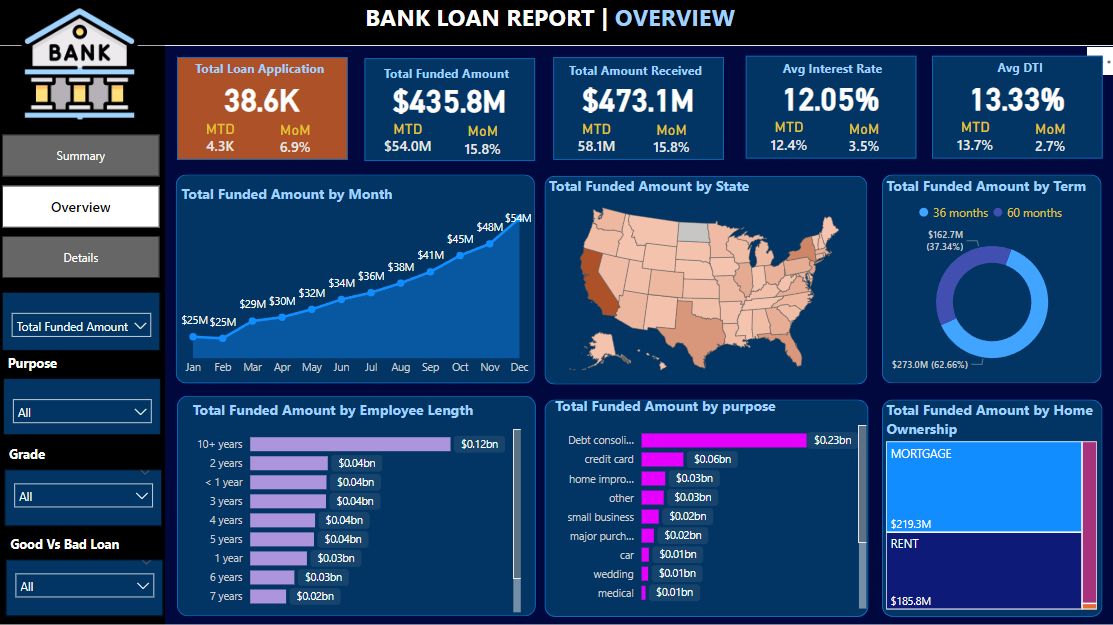

Layout of this report page (visuals, bound fields, positions):
{"tool":"powerbi","page":{"name":"Overview","canvas":[1280,720],"ordinal":1},"visuals":[{"type":"shape","box":[0,0,1280,55.3],"z":0},{"type":"shape","box":[1068.8,67,195,117.5],"z":0,"group":"g5"},{"type":"shape","box":[856.2,68.1,195,117.5],"z":0,"group":"g4"},{"type":"shape","box":[206,69.5,195,117.5],"z":0,"group":"g1"},{"type":"shape","box":[420,69.5,195,117.5],"z":0,"group":"g2"},{"type":"shape","box":[635,69.5,195,117.5],"z":0,"group":"g3"},{"type":"shape","box":[0,55.5,192,664.5],"z":1000},{"type":"card","fields":{"Values":["financial_loan.Avg DTI"]},"box":[1084.5,72,162.5,81.2],"z":1000,"group":"g5"},{"type":"card","fields":{"Values":["financial_loan.Avg Interest Rate"]},"box":[871.9,73.1,162.5,81.2],"z":1000,"group":"g4"},{"type":"card","fields":{"Values":["financial_loan.Total Loan Applications"]},"box":[221.7,74.5,162.5,81.2],"z":1000,"group":"g1"},{"type":"card","fields":{"Values":["financial_loan.Total Funded Amount"]},"box":[435.7,74.5,162.5,81.2],"z":1000,"group":"g2"},{"type":"card","fields":{"Values":["financial_loan.Total Amount Received"]},"box":[650.7,74.5,162.5,81.2],"z":1000,"group":"g3"},{"type":"textbox","box":[416.1,0,448.6,51.9],"z":2000},{"type":"textbox","box":[1083.8,65,170,40],"z":2000,"group":"g5"},{"type":"textbox","box":[221,67.5,170,40],"z":2000,"group":"g1"},{"type":"textbox","box":[889.6,67.5,132.5,38.8],"z":2000,"group":"g4"},{"type":"textbox","box":[647.5,68.9,190,38.8],"z":2000,"group":"g3"},{"type":"textbox","box":[437.6,72.8,167.1,32.9],"z":2000,"group":"g2"},{"type":"group","id":"g1","title":"Group 1","box":[206,67.5,195,123.8],"z":3000},{"type":"card","title":"MTD","fields":{"Values":["financial_loan.MTD DTI"]},"box":[1074.5,137.5,87.5,50],"z":3000,"group":"g5"},{"type":"card","title":"MTD","fields":{"Values":["financial_loan.MTD Interest Rate"]},"box":[861.9,138.6,87.5,50],"z":3000,"group":"g4"},{"type":"card","title":"MTD","fields":{"Values":["financial_loan.MTD Loan Application"]},"box":[211.7,140,87.5,50],"z":3000,"group":"g1"},{"type":"card","title":"MTD","fields":{"Values":["financial_loan.MTD Funded Amount"]},"box":[425.7,140,87.5,50],"z":3000,"group":"g2"},{"type":"card","title":"MTD","fields":{"Values":["financial_loan.MTD Amount Received"]},"box":[640.7,140,87.5,50],"z":3000,"group":"g3"},{"type":"card","title":"MoM","fields":{"Values":["financial_loan.MOM DTI"]},"box":[1160.5,139.5,87.5,50],"z":4000,"group":"g5"},{"type":"card","title":"MoM","fields":{"Values":["financial_loan.MOM Interest Rate"]},"box":[947.9,140.6,87.5,50],"z":4000,"group":"g4"},{"type":"card","title":"MoM","fields":{"Values":["financial_loan.MOM Loan Application"]},"box":[297.7,142,87.5,50],"z":4000,"group":"g1"},{"type":"card","title":"MoM","fields":{"Values":["financial_loan.MOM Funded Amount"]},"box":[511.7,142,87.5,50],"z":4000,"group":"g2"},{"type":"card","title":"MoM","fields":{"Values":["financial_loan.MOM Amount Received"]},"box":[726.7,142,87.5,50],"z":4000,"group":"g3"},{"type":"textbox","box":[7.1,278.8,167.1,32.9],"z":4000},{"type":"textbox","box":[7.3,403,167.1,32.9],"z":4000,"group":"g8"},{"type":"textbox","box":[8.3,507.5,167.1,32.9],"z":4000,"group":"g7"},{"type":"textbox","box":[9.5,610.3,167.1,32.9],"z":4000,"group":"g6"},{"type":"shape","box":[204.7,203.5,410.6,238.8],"z":5000},{"type":"group","id":"g2","title":"Group 1","box":[420,69.5,195,122.5],"z":6000},{"type":"group","id":"g3","title":"Group 1","box":[635,68.9,202.5,123.1],"z":7000},{"type":"group","id":"g4","title":"Group 1","box":[856.2,67.5,195,123.8],"z":8000},{"type":"group","id":"g5","title":"Group 1","box":[1068.8,65,195,123.8],"z":9000},{"type":"shape","box":[205,455.9,410.1,252.1],"z":10000},{"type":"group","id":"g6","title":"Group 4","box":[9.5,610.3,180,97.9],"z":11000},{"type":"group","id":"g7","title":"Group 4","box":[8.3,507.5,180,97.6],"z":12000},{"type":"group","id":"g8","title":"Group 4","box":[7.3,403,180,97.9],"z":13000},{"type":"areaChart","fields":{"Y":["financial_loan.Total Amount Received"],"Category":["Date Table.Month"]},"box":[205,213.5,410.1,229.1],"z":14000},{"type":"slicer","fields":{"Values":["Select Measure.Select Measure"]},"box":[5.2,337.8,181.2,67.1],"z":15000},{"type":"shape","box":[625.9,203.8,369,238.8],"z":16000},{"type":"shapeMap","fields":{"Value":["financial_loan.Total Amount Received"],"Category":["financial_loan.address_state"]},"box":[625.9,203.8,365.4,237.6],"z":17000},{"type":"shape","box":[1011.9,202.6,250.9,238.8],"z":18000},{"type":"slicer","fields":{"Values":["financial_loan.purpose"]},"box":[7.3,435.9,180,65],"z":18000,"group":"g8"},{"type":"slicer","fields":{"Values":["financial_loan.grade"]},"box":[8.3,540.4,180,65],"z":18000,"group":"g7"},{"type":"slicer","fields":{"Values":["financial_loan.Good Vs Bad loan"]},"box":[9.5,643.2,180,65],"z":18000,"group":"g6"},{"type":"donutChart","fields":{"Y":["financial_loan.Total Amount Received"],"Category":["financial_loan.term"]},"box":[1011.9,203.8,252.1,237.6],"z":19000},{"type":"shape","box":[625.9,459.5,370.3,248.4],"z":20000},{"type":"shape","box":[1011.9,459.5,252.1,248.4],"z":21000},{"type":"barChart","fields":{"Y":["financial_loan.Total Amount Received"],"Category":["financial_loan.emp_length"]},"box":[218.3,459.5,384.7,248.4],"z":22000},{"type":"barChart","fields":{"Y":["financial_loan.Total Amount Received"],"Category":["financial_loan.purpose"]},"box":[633.2,455.9,365.4,248.4],"z":23000},{"type":"treemap","fields":{"Values":["financial_loan.Total Amount Received"],"Group":["financial_loan.home_ownership"]},"box":[1011.9,459.5,250.9,244.8],"z":24000},{"type":"pageNavigator","box":[6,156.8,180.9,166.4],"z":25000},{"type":"image","box":[20.5,3.6,148.3,142.3],"z":26000}]}

Visuals, with their boxes in screenshot pixels (x1, y1, x2, y2), scaled from the page's 1280x720 canvas onto the 1113x625 screenshot:
shape: [0,0,1112,48]
shape: [929,58,1099,160]
shape: [744,59,914,161]
shape: [179,60,349,162]
shape: [365,60,535,162]
shape: [552,60,722,162]
shape: [0,48,167,624]
card - financial_loan.Avg DTI: [943,62,1084,133]
card - financial_loan.Avg Interest Rate: [758,63,899,134]
card - financial_loan.Total Loan Applications: [193,65,334,135]
card - financial_loan.Total Funded Amount: [379,65,520,135]
card - financial_loan.Total Amount Received: [566,65,707,135]
textbox: [362,0,752,45]
textbox: [942,56,1090,91]
textbox: [192,59,340,93]
textbox: [774,59,889,92]
textbox: [563,60,728,93]
textbox: [381,63,526,92]
"Group 1" group: [179,59,349,166]
"MTD" card: [934,119,1010,163]
"MTD" card: [749,120,826,164]
"MTD" card: [184,122,260,165]
"MTD" card: [370,122,446,165]
"MTD" card: [557,122,633,165]
"MoM" card: [1009,121,1085,164]
"MoM" card: [824,122,900,165]
"MoM" card: [259,123,335,167]
"MoM" card: [445,123,521,167]
"MoM" card: [632,123,708,167]
textbox: [6,242,151,271]
textbox: [6,350,152,378]
textbox: [7,441,153,469]
textbox: [8,530,154,558]
shape: [178,177,535,384]
"Group 1" group: [365,60,535,167]
"Group 1" group: [552,60,728,167]
"Group 1" group: [744,59,914,166]
"Group 1" group: [929,56,1099,164]
shape: [178,396,535,615]
"Group 4" group: [8,530,165,615]
"Group 4" group: [7,441,164,525]
"Group 4" group: [6,350,163,435]
areaChart - financial_loan.Total Amount Received x Date Table.Month: [178,185,535,384]
slicer - Select Measure.Select Measure: [5,293,162,351]
shape: [544,177,865,384]
shapeMap - financial_loan.Total Amount Received x financial_loan.address_state: [544,177,862,383]
shape: [880,176,1098,383]
slicer - financial_loan.purpose: [6,378,163,435]
slicer - financial_loan.grade: [7,469,164,526]
slicer - financial_loan.Good Vs Bad loan: [8,558,165,615]
donutChart - financial_loan.Total Amount Received x financial_loan.term: [880,177,1099,383]
shape: [544,399,866,614]
shape: [880,399,1099,614]
barChart - financial_loan.Total Amount Received x financial_loan.emp_length: [190,399,524,614]
barChart - financial_loan.Total Amount Received x financial_loan.purpose: [551,396,868,611]
treemap - financial_loan.Total Amount Received x financial_loan.home_ownership: [880,399,1098,611]
pageNavigator: [5,136,163,281]
image: [18,3,147,127]
